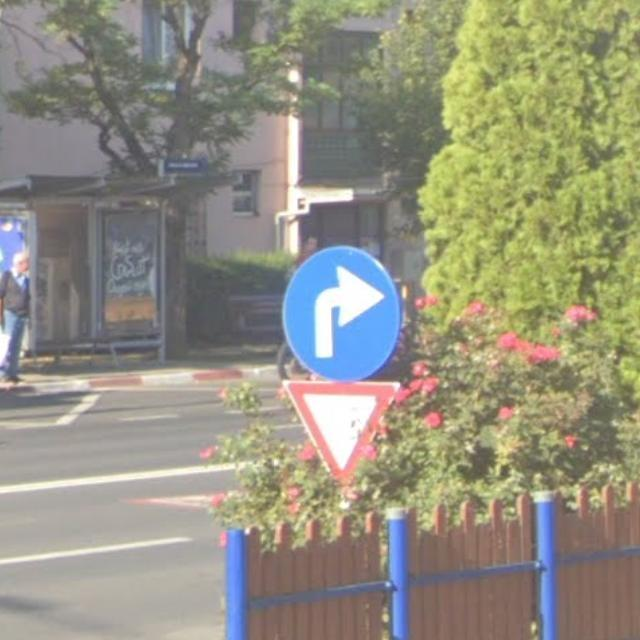prio_give_way: (278, 377, 400, 486)
